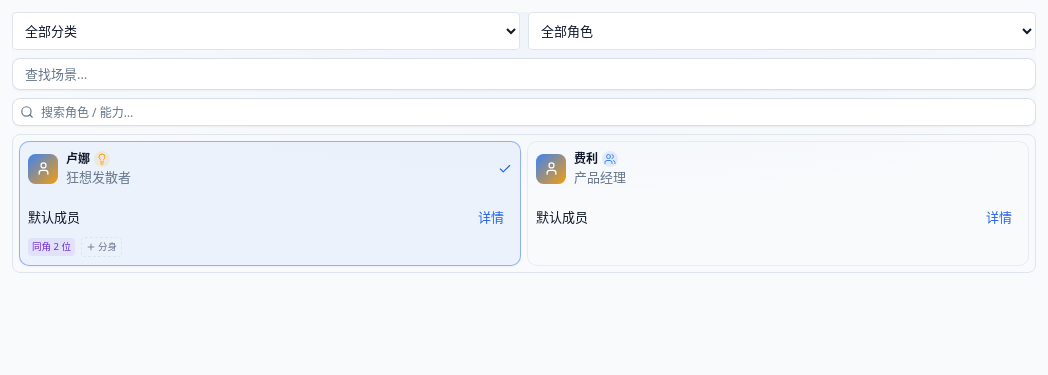
Test case: M77：AgentPicker「+ 分身」菜单（成员键值域） › 同角已双分身：卡片标注「同角 2 位」，菜单仅剩未占用人格
Expected: the text "同角 2 位" is shown, [28,238,75,256]
What coordinates should you click on to do the following:
click the button with aria-label "追加分身"
I would click on:
 (101, 247)
Its box is [81,237,122,257].
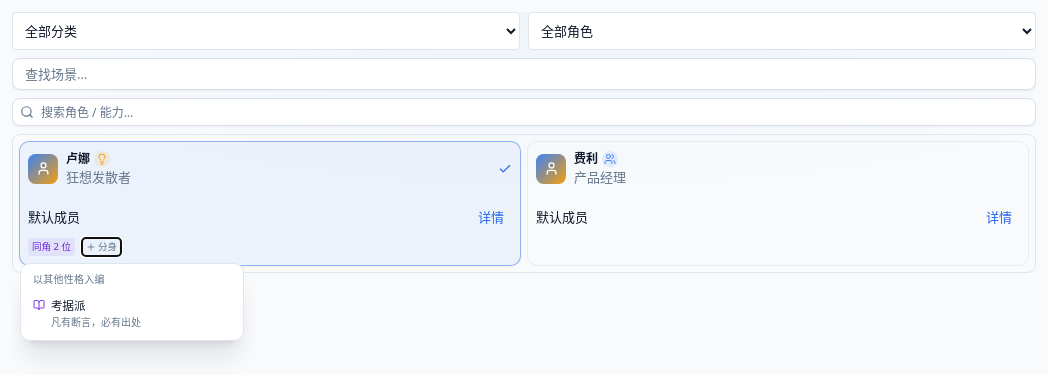
Now the text "考据派" is shown, box [51,298,86,313]
